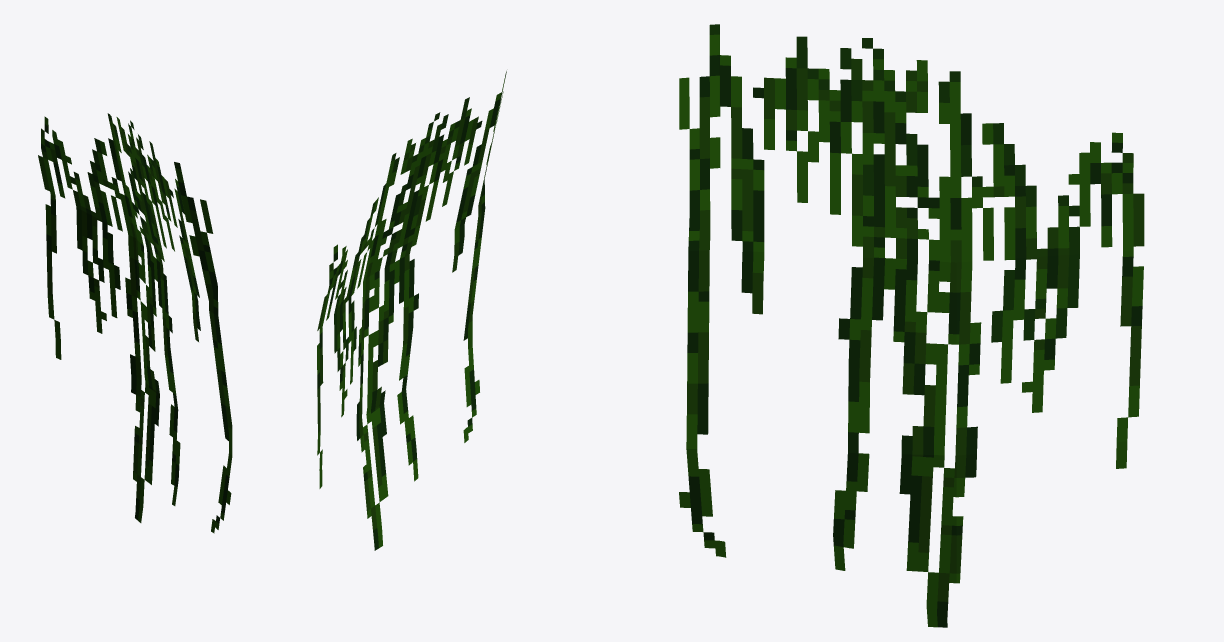
Rendered from moss2.glb.
The picture shows the model from 3 angles, left to right: view 1: azimuth 30°, elevation 25°; view 2: azimuth 150°, elevation 25°; view 3: azimuth 270°, elevation 25°; orthographic projection. The views are drawn at different scales.
Visible parts, largest first — view 1: Plane; view 2: Plane; view 3: Plane.
Part boxes in pixels (<box>): Plane: <box>38,113,232,533</box>; Plane: <box>317,71,506,550</box>; Plane: <box>679,24,1144,627</box>.
Size of the model in its own units: 0.1387 by 1 by 1.
Materials: 1 (1 with a texture image).
